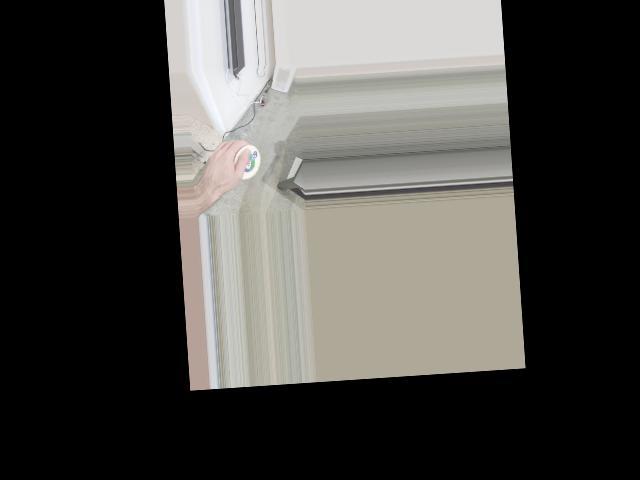cotage: (229, 144, 262, 180)
